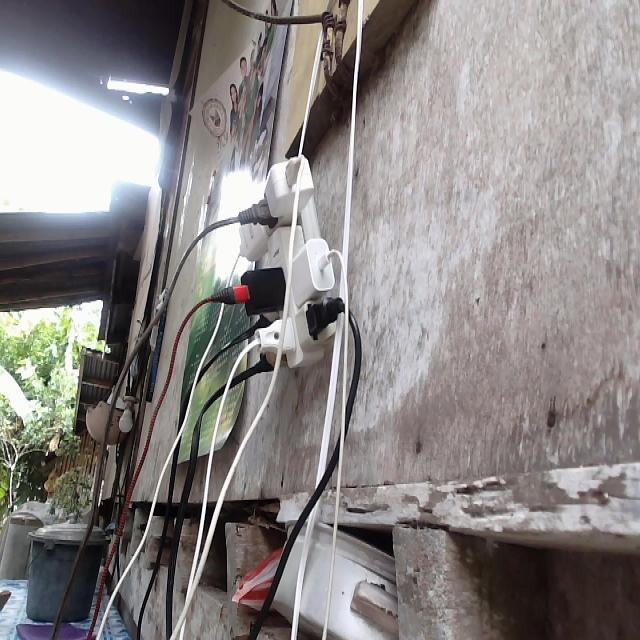-: (202, 149, 365, 384)
